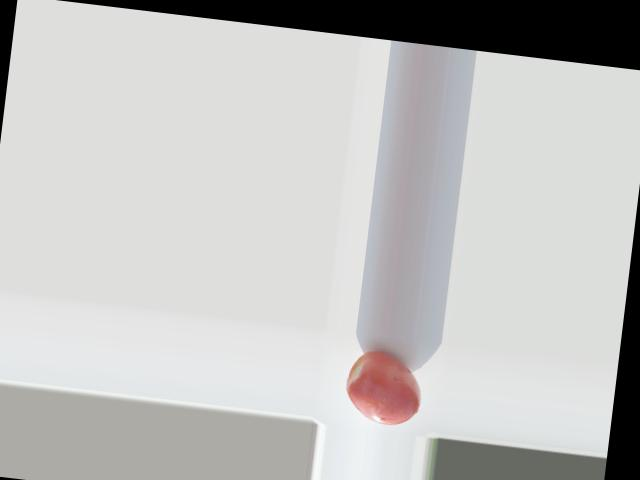tomato: (342, 348, 426, 428)
